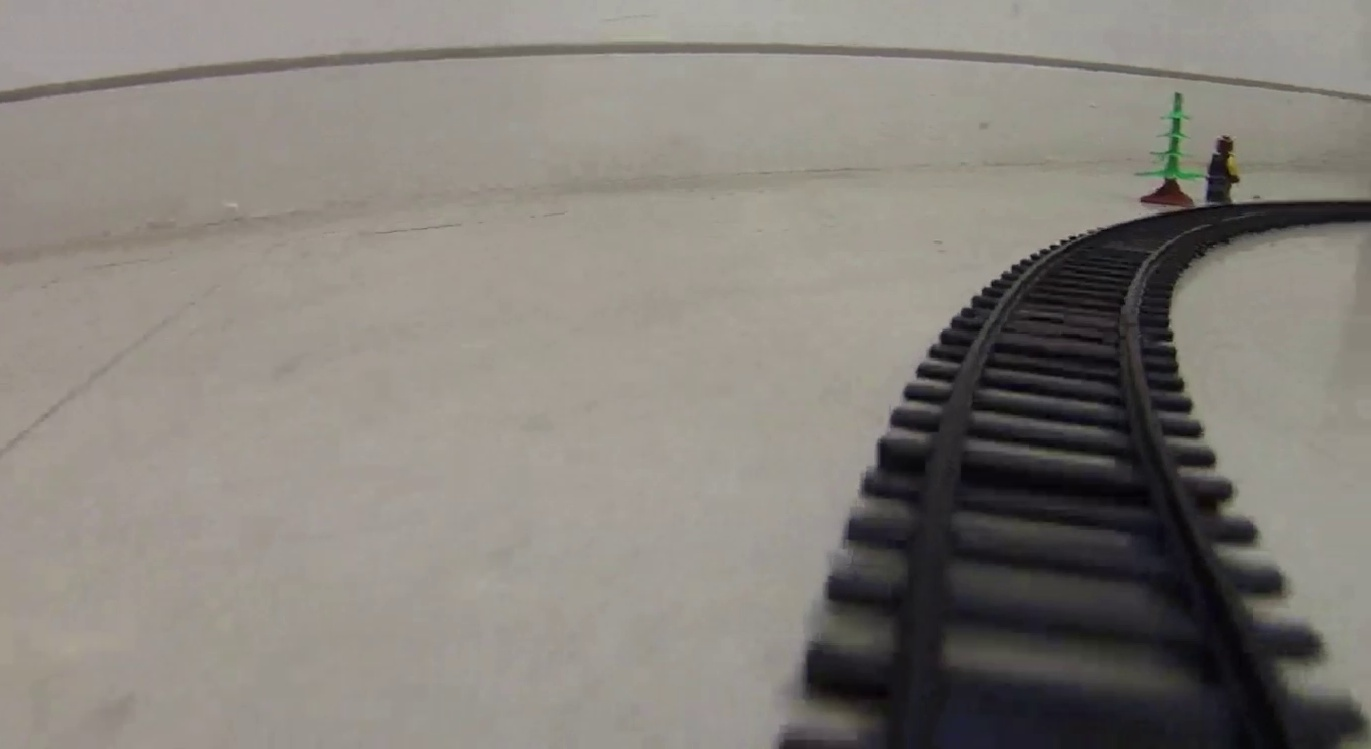people: (1205, 134, 1243, 204)
tree: (1134, 88, 1205, 208)
